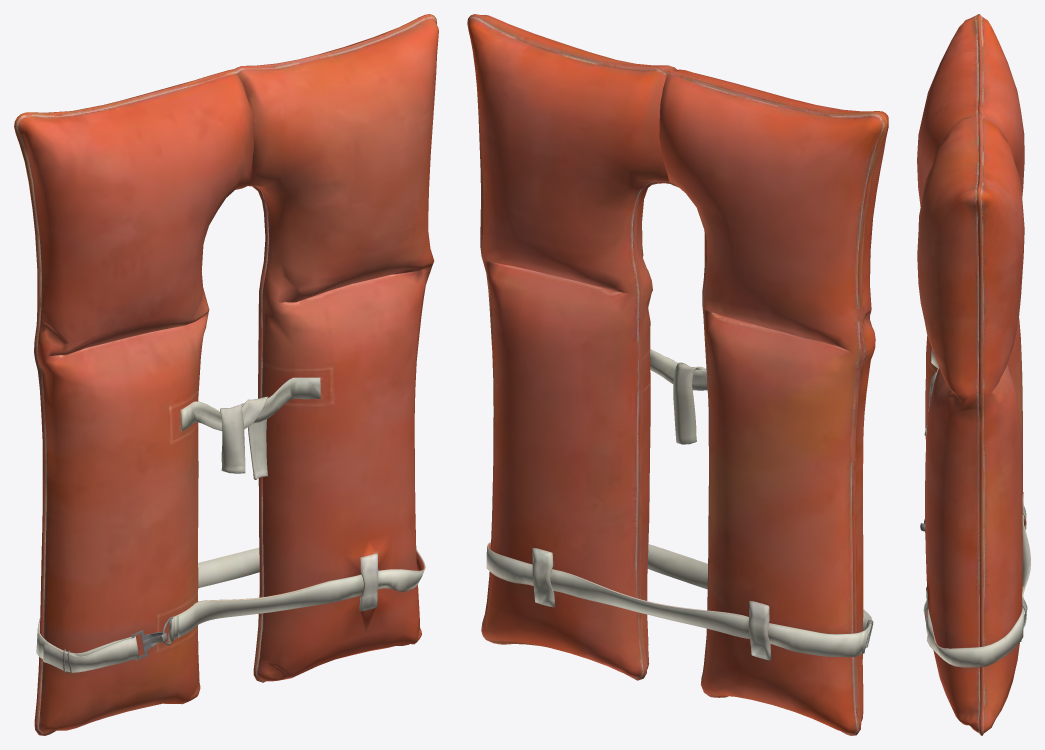
Rendered from life_jacket.5b1cf938.glb.
3 renders of one model, left to right at view 1: azimuth 30°, elevation 25°; view 2: azimuth 150°, elevation 25°; view 3: azimuth 270°, elevation 25°, orthographic. The views are drawn at different scales.
Parts seen in each view (by area): view 1: life_jacket; view 2: life_jacket; view 3: life_jacket.
Part boxes in pixels (x1,y1,x2,y2): life_jacket: (14,14,438,735); life_jacket: (467,14,888,735); life_jacket: (917,14,1030,735).
Bounding box in the file's own units: 0.701 × 1 × 0.1856.
Materials: 1 (1 with a texture image).
